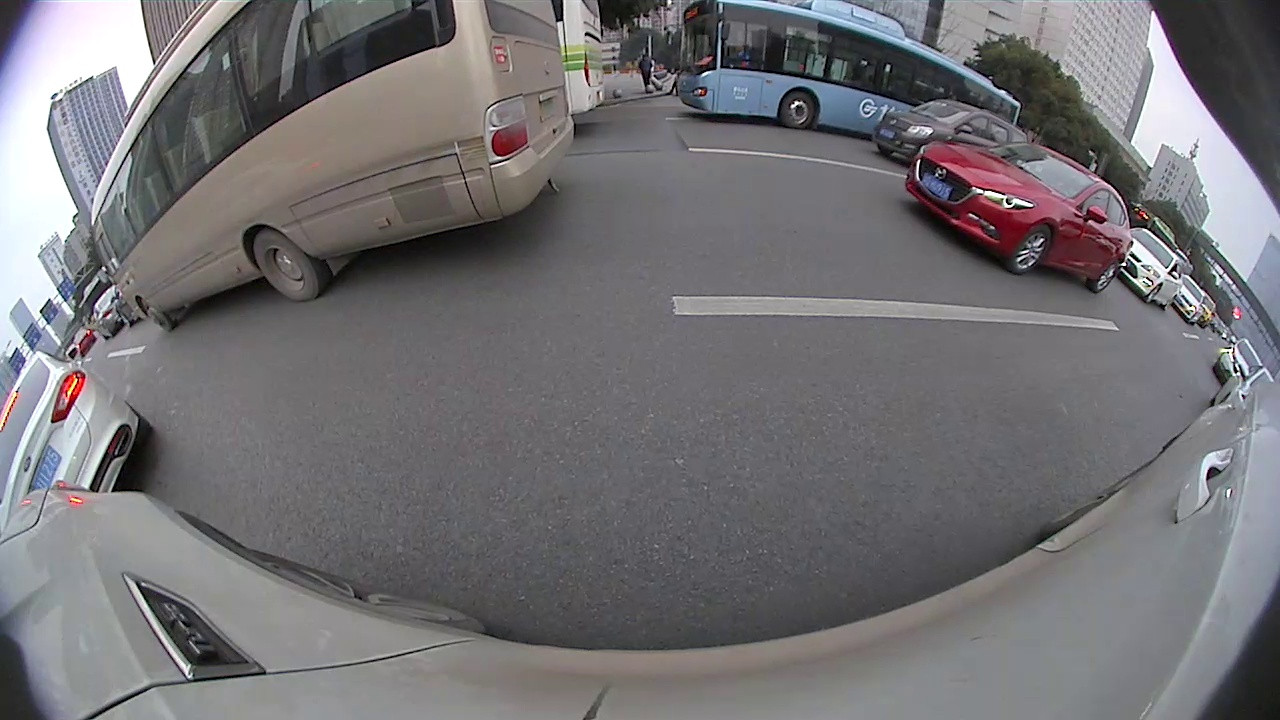bus: (90, 1, 574, 333), (678, 1, 1018, 133), (558, 1, 605, 116)
car: (905, 145, 1132, 293), (1, 352, 150, 533), (869, 101, 1026, 160), (1112, 228, 1182, 310)
front: (1014, 225, 1054, 273), (781, 89, 816, 128), (140, 297, 173, 332), (1146, 284, 1161, 305)
rear: (251, 228, 321, 305), (1093, 260, 1119, 291)
